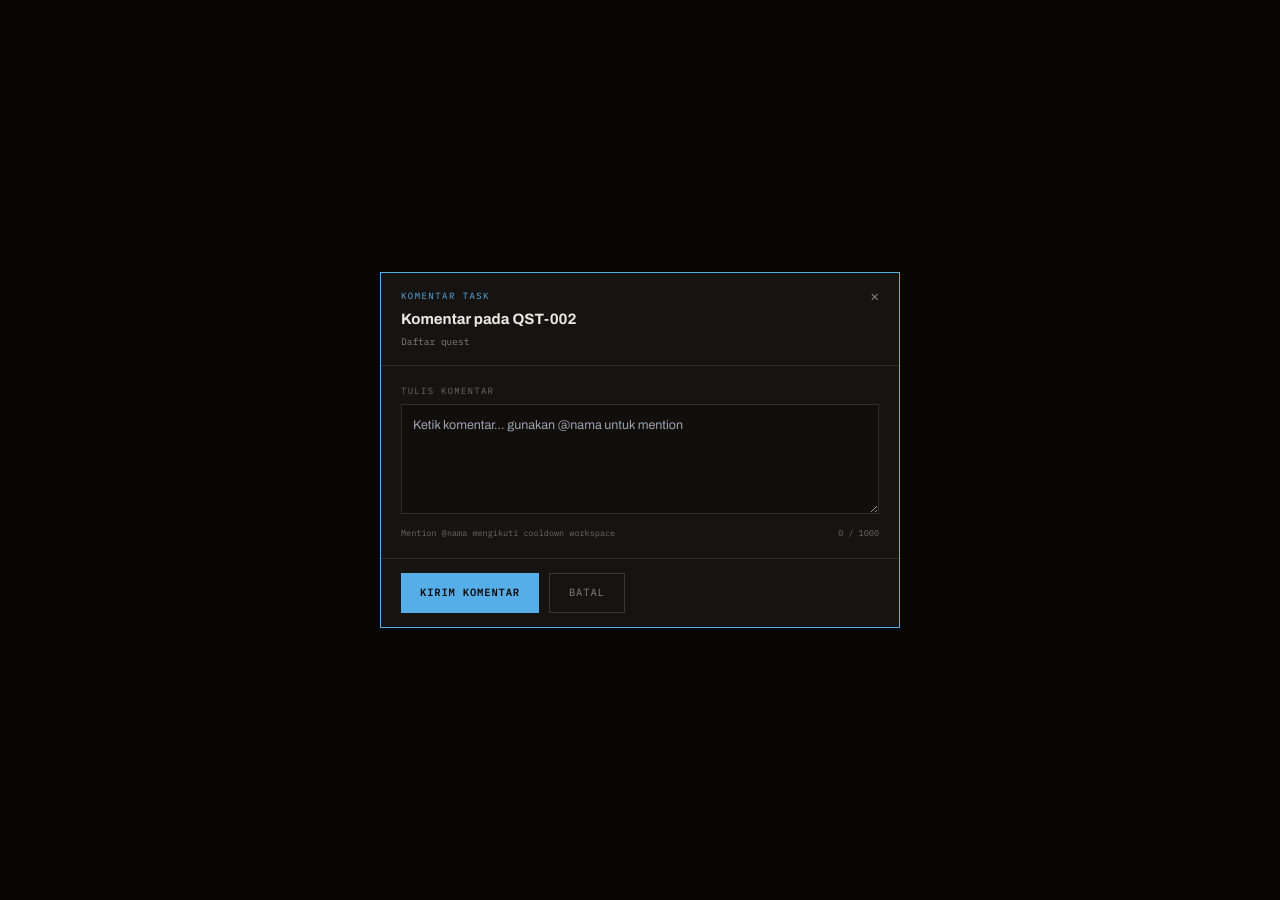
Test: CommentModal › galat dari server tampil dan modal tetap terbuka
Step 1. Type "halo" into the text box with placeholder "Ketik komentar… gunakan @nama untuk mention" → (640, 460), box [401,404,879,514]
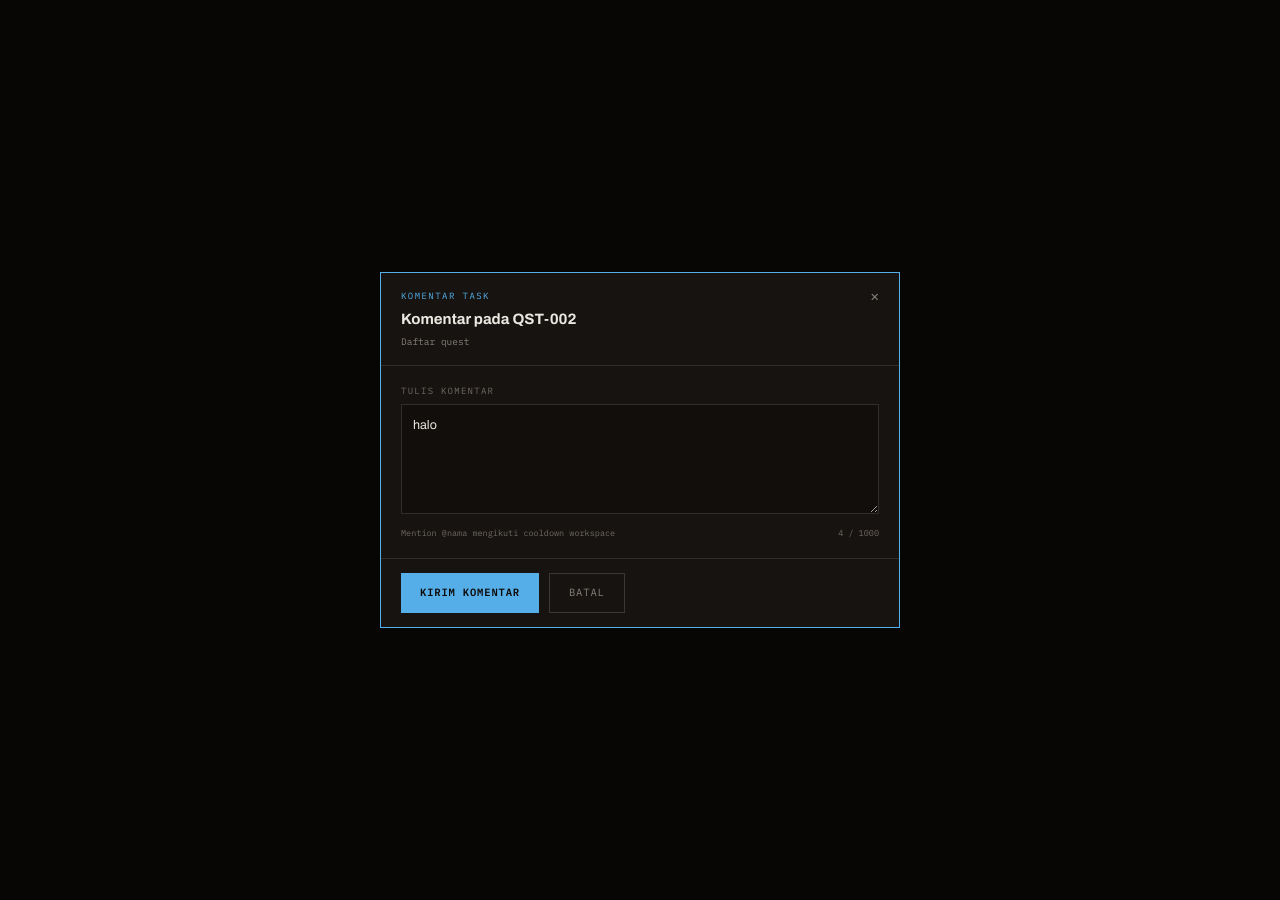
Step 2. Click the button "KIRIM KOMENTAR" → click(470, 593), box [401,573,539,613]
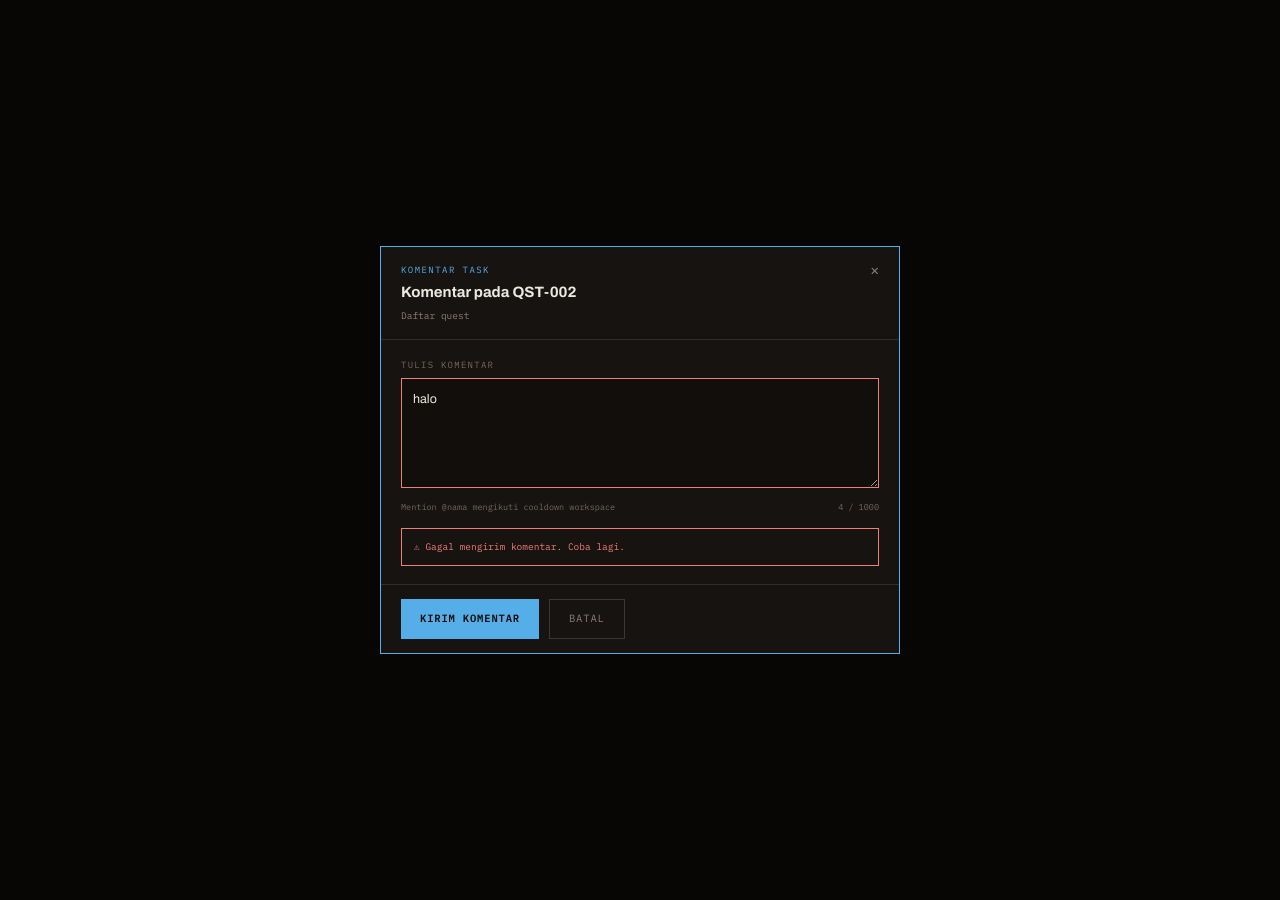
Expected: the text "⚠ Gagal mengirim komentar. Coba lagi." is shown, [401,528,879,566]
